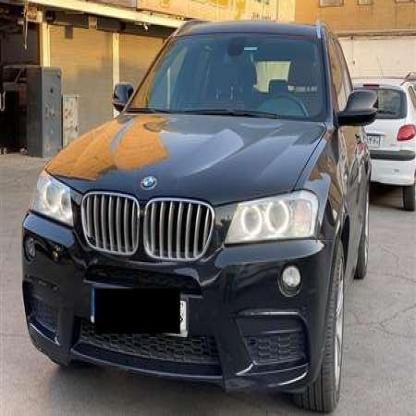Car: (19, 1, 370, 416), (333, 72, 416, 207)
